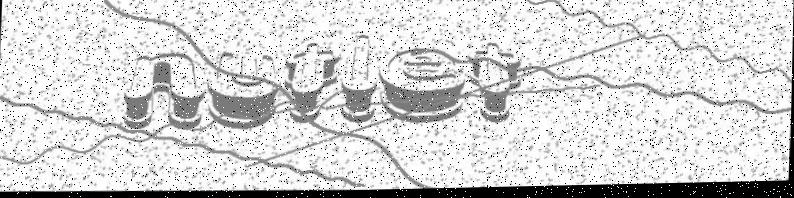e: (374, 42, 471, 126)
l: (339, 30, 386, 123)
n: (120, 47, 207, 136)
t: (462, 41, 527, 144), (285, 36, 340, 128)
u: (207, 47, 284, 133)
